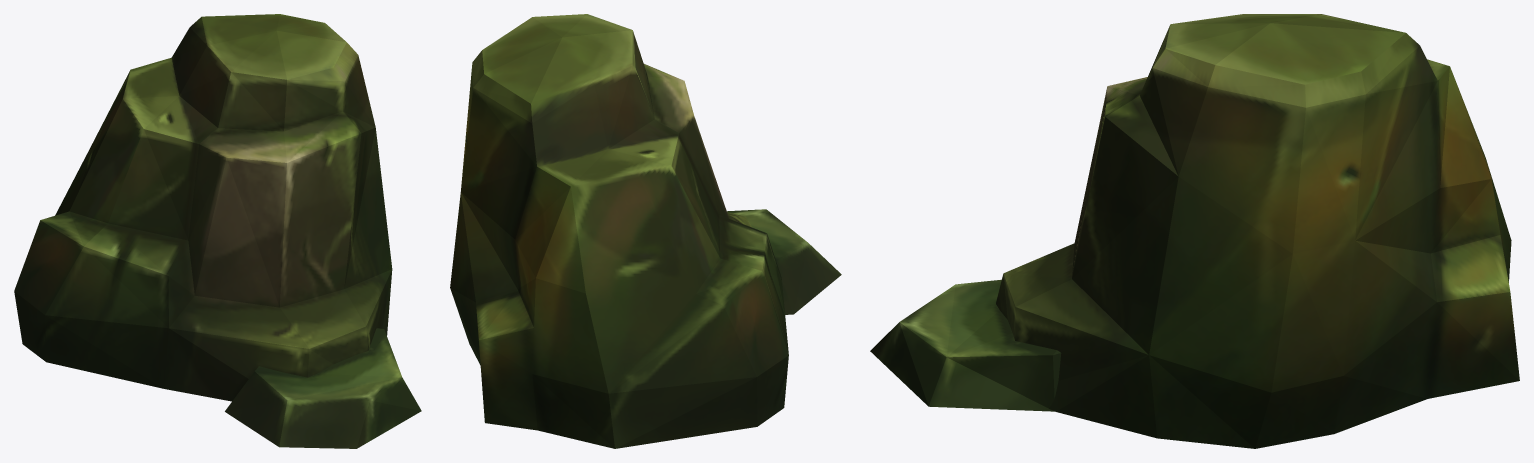
File: Swamp_shitou13.FBX
3 views of the same model, side by side, from view 1: azimuth 30°, elevation 25°; view 2: azimuth 150°, elevation 25°; view 3: azimuth 270°, elevation 25° (orthographic). The views are drawn at different scales.
Visible parts, largest first — view 1: shitou13; view 2: shitou13; view 3: shitou13.
Part boxes in pixels (x1,y1,x2,y2): shitou13: (14,14,421,448); shitou13: (450,14,841,448); shitou13: (870,14,1519,448).
Bounding box in the file's own units: 120 × 103 × 162.
